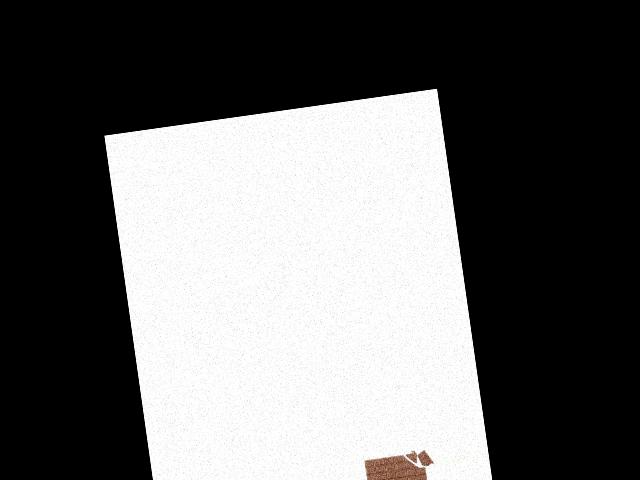chocolate: (362, 441, 437, 480)
